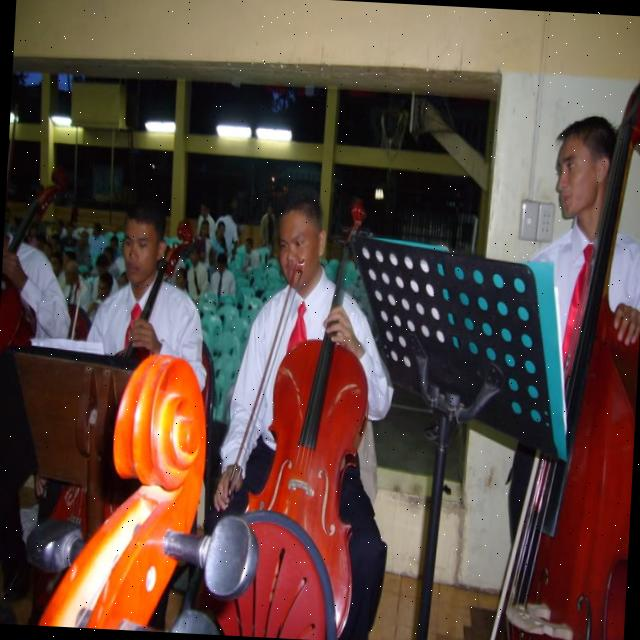cello: (205, 190, 383, 640), (32, 218, 205, 608), (0, 167, 67, 374)
